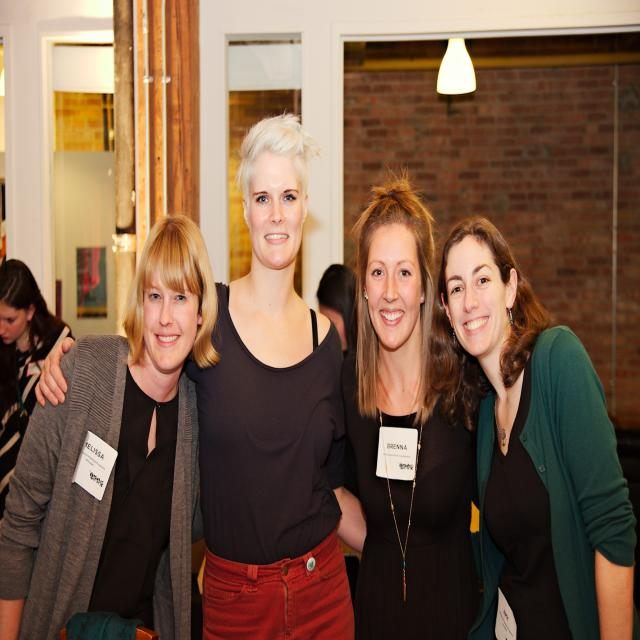body: (33, 110, 368, 640), (0, 217, 228, 639), (441, 206, 640, 640), (341, 166, 482, 640), (0, 257, 76, 522), (308, 252, 363, 338)
